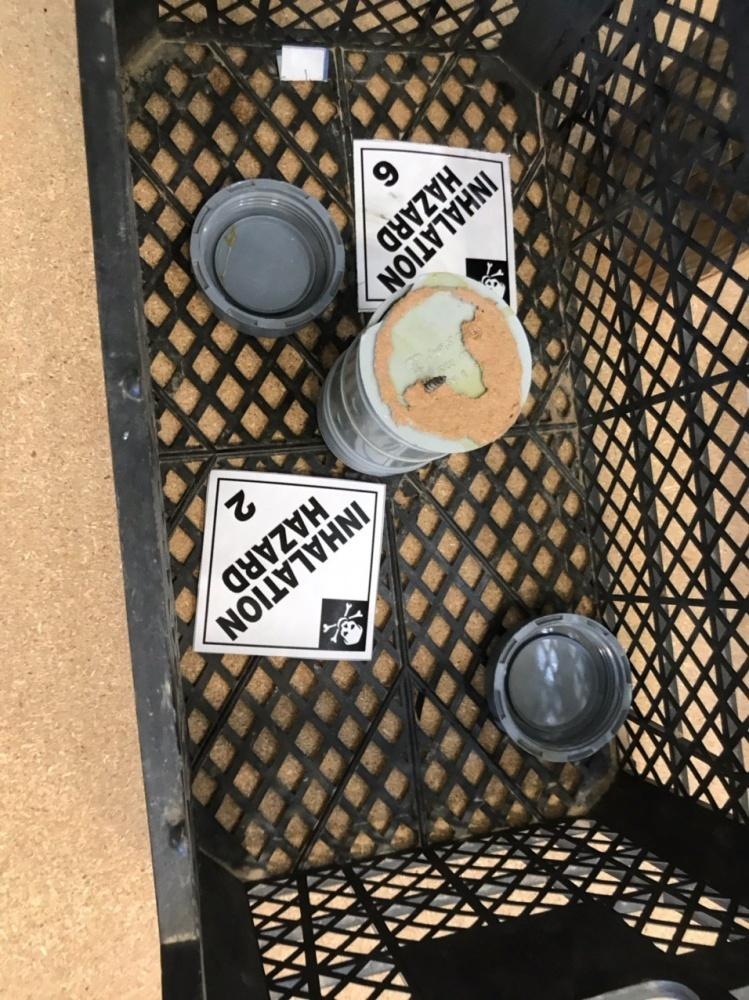poison: (199, 466, 384, 655), (355, 137, 520, 317)
